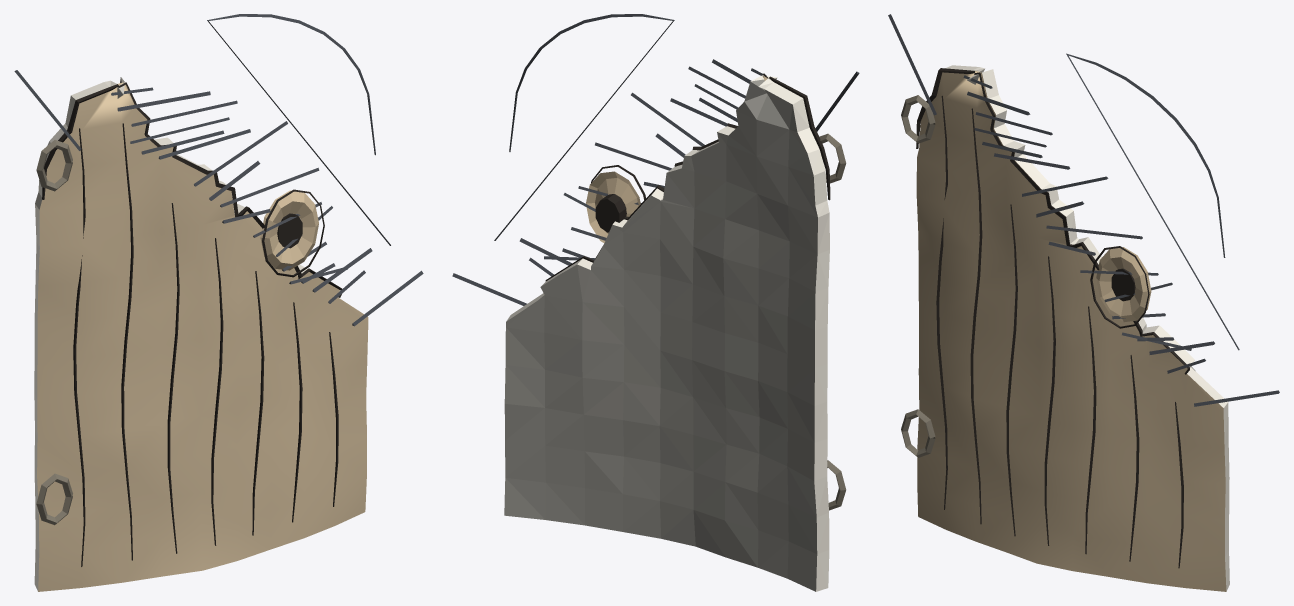
The model's file is BarkDoor.fbx.
3 renders of one model, left to right at view 1: azimuth 30°, elevation 25°; view 2: azimuth 150°, elevation 25°; view 3: azimuth 330°, elevation 25°, orthographic. The views are drawn at different scales.
Visible parts, largest first — view 1: Door, Lines, Knot; view 2: Door, Lines, Knot; view 3: Door, Lines, Knot.
Part boxes in pixels (x1,y1,x2,y2): Door: (34,77,368,591); Lines: (14,14,423,566); Knot: (260,190,318,270); Door: (504,75,846,591); Lines: (452,14,859,305); Knot: (586,171,640,242); Door: (901,65,1229,591); Lines: (888,14,1279,568); Knot: (1096,247,1151,322).
Bounding box in the file's own units: 0.981 × 1.22 × 0.158.
